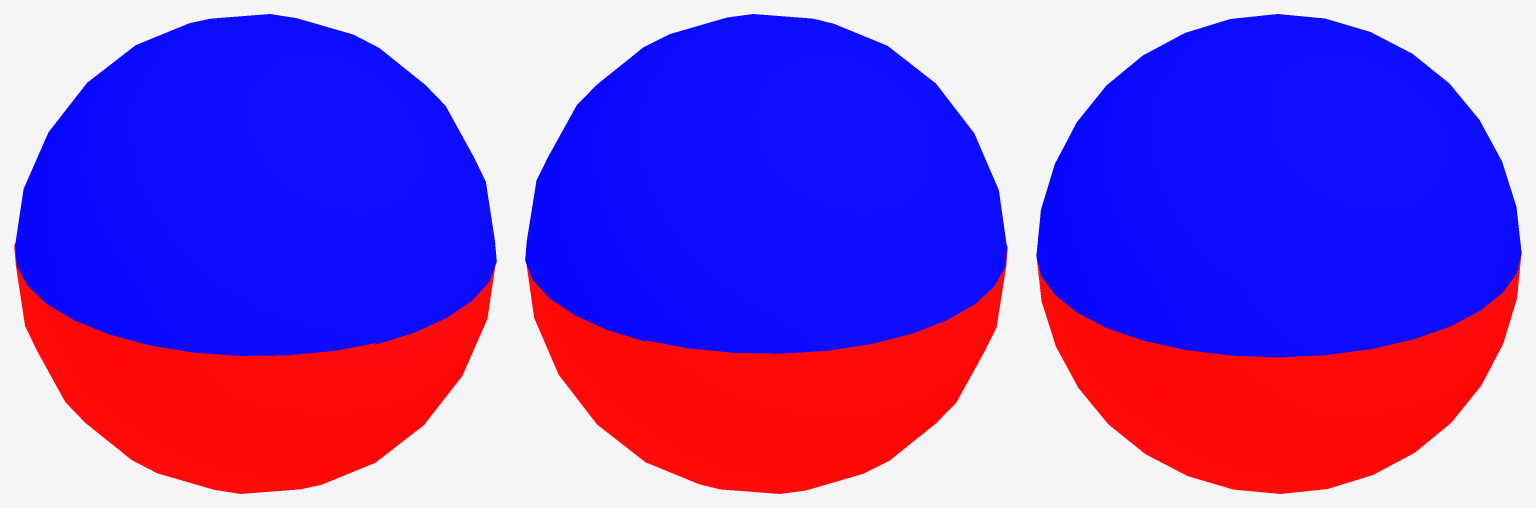
The model's file is Orbital Magnet.fbx.
3 views of the same model, side by side, from view 1: azimuth 30°, elevation 25°; view 2: azimuth 150°, elevation 25°; view 3: azimuth 270°, elevation 25° (orthographic).
Parts seen in each view (by area): view 1: nurbsToPoly4; view 2: nurbsToPoly4; view 3: nurbsToPoly4.
Part boxes in pixels (x1=…): nurbsToPoly4: x1=14, y1=14, x2=496, y2=493; nurbsToPoly4: x1=525, y1=14, x2=1007, y2=493; nurbsToPoly4: x1=1036, y1=14, x2=1521, y2=493.
Bounding box in the file's own units: 19.64 × 19.55 × 19.61.
